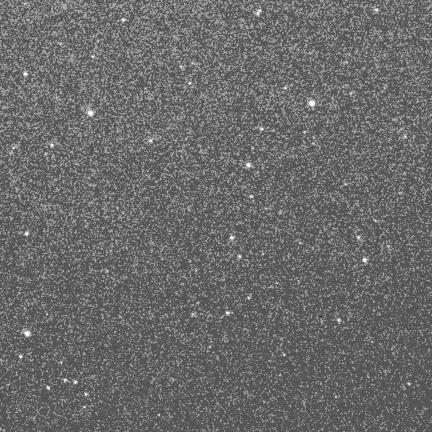blob: (24, 331, 31, 337), (309, 101, 315, 106), (246, 163, 252, 168), (238, 254, 243, 260), (149, 139, 154, 144), (88, 111, 93, 116), (24, 72, 29, 77), (247, 296, 252, 300), (249, 195, 254, 199), (357, 235, 361, 240), (12, 146, 16, 150), (25, 232, 29, 236), (230, 236, 234, 240), (363, 258, 367, 262), (84, 392, 88, 396), (226, 311, 230, 315), (46, 386, 50, 390), (303, 131, 307, 135), (260, 127, 264, 131), (408, 382, 411, 387), (60, 361, 63, 365), (122, 18, 125, 22), (189, 81, 192, 85), (405, 135, 408, 139), (73, 381, 77, 384), (335, 395, 338, 399), (284, 87, 288, 90), (399, 192, 403, 195), (64, 378, 67, 382), (350, 92, 353, 96), (375, 8, 378, 11), (19, 355, 22, 358), (283, 353, 286, 356), (158, 414, 161, 417), (50, 144, 53, 147), (338, 319, 341, 322), (92, 55, 94, 58)
